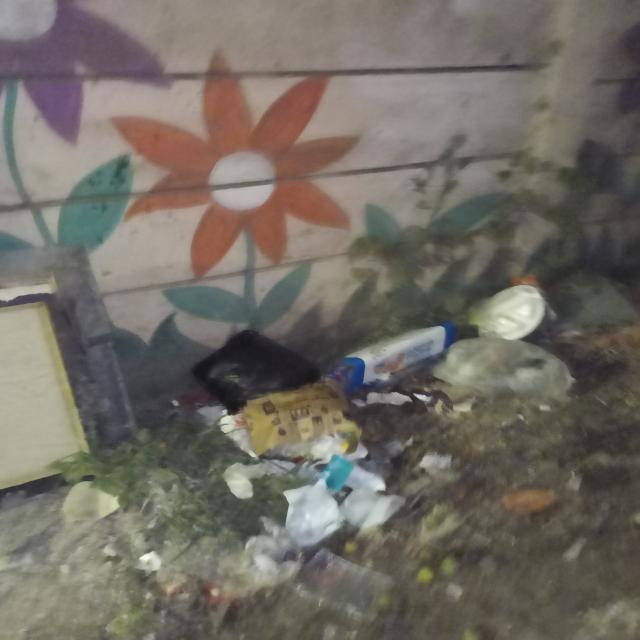garbage: (6, 273, 640, 640)
